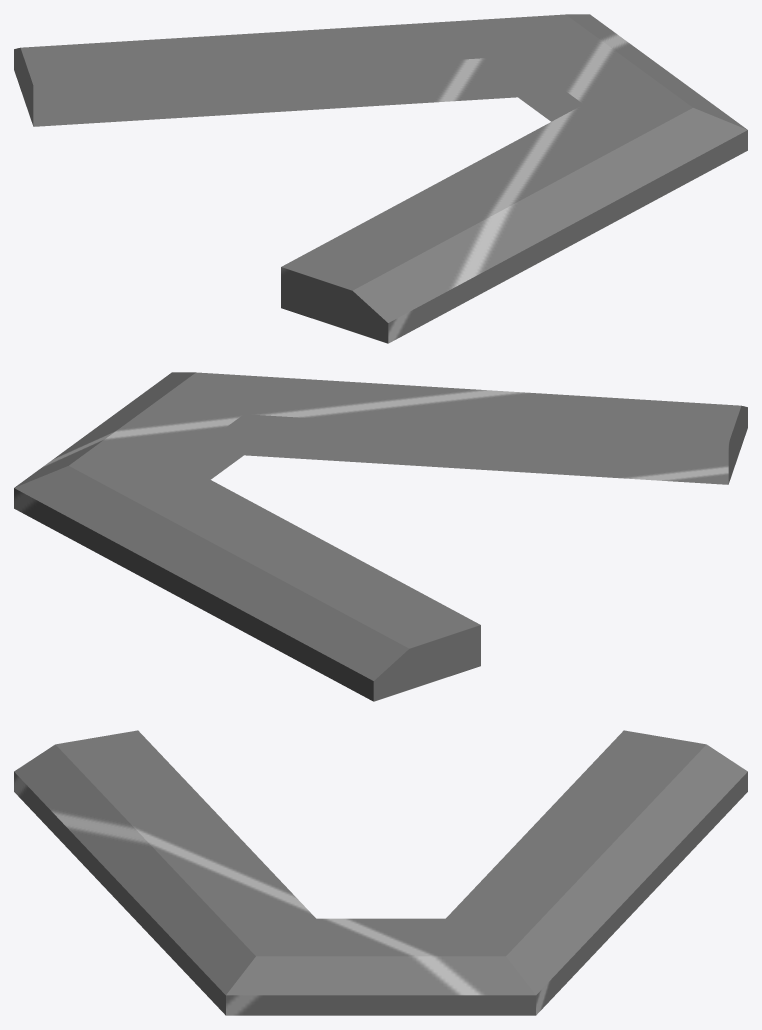
The model's file is Energy-Collector-Type-Omega-Chevron-Part-Lower.obj.
3 renders of one model, top to bottom at view 1: azimuth 30°, elevation 25°; view 2: azimuth 150°, elevation 25°; view 3: azimuth 270°, elevation 25°, orthographic.
Parts seen in each view (by area): view 1: Energy-Collector-Type-Omega-Chevron-Part-Lower; view 2: Energy-Collector-Type-Omega-Chevron-Part-Lower; view 3: Energy-Collector-Type-Omega-Chevron-Part-Lower.
Part boxes in pixels (<box>): Energy-Collector-Type-Omega-Chevron-Part-Lower: <box>14,14,747,343</box>; Energy-Collector-Type-Omega-Chevron-Part-Lower: <box>14,372,747,701</box>; Energy-Collector-Type-Omega-Chevron-Part-Lower: <box>14,730,747,1015</box>.
Size of the model in its own units: 0.65 by 0.05 by 0.8235.
